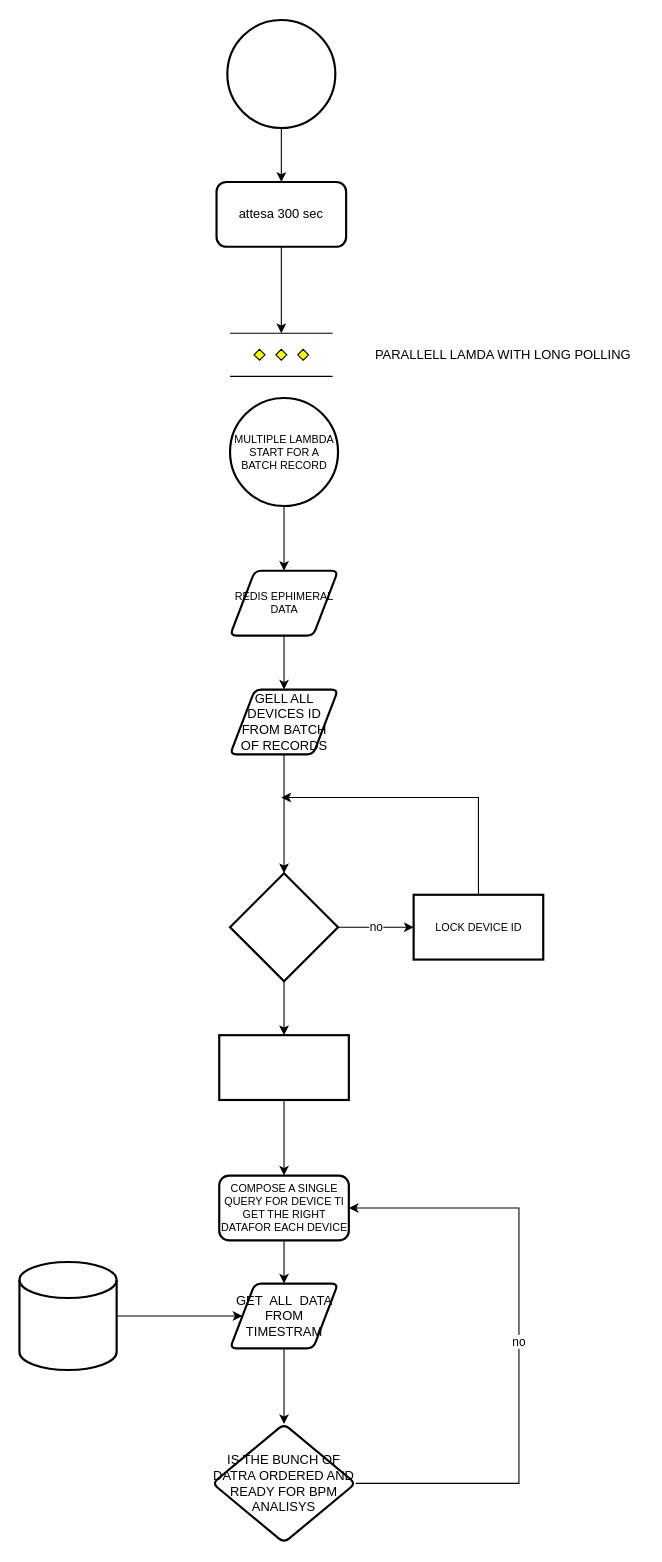
Some shapes in this 662 by 1562 pixel diagram are drawn without their labels. The box of each missing label's shape, as (x1, y1, x2, y2) in pixels:
ENTRA UN LOTTO DI DIMENSIONE VARIABILE IN SQS: (226, 18, 336, 129)
FOR EACH DEVICE WRITE ON REDIS THE START TIMESTAMP OF ANALSISYS IN REDIS KEY: (218, 1034, 349, 1101)
IS DEVICE LOCKED FOR ANALISYS INTO OTHER LAMBDA: (228, 872, 339, 982)
Timestream orderred data: (18, 1260, 117, 1371)
